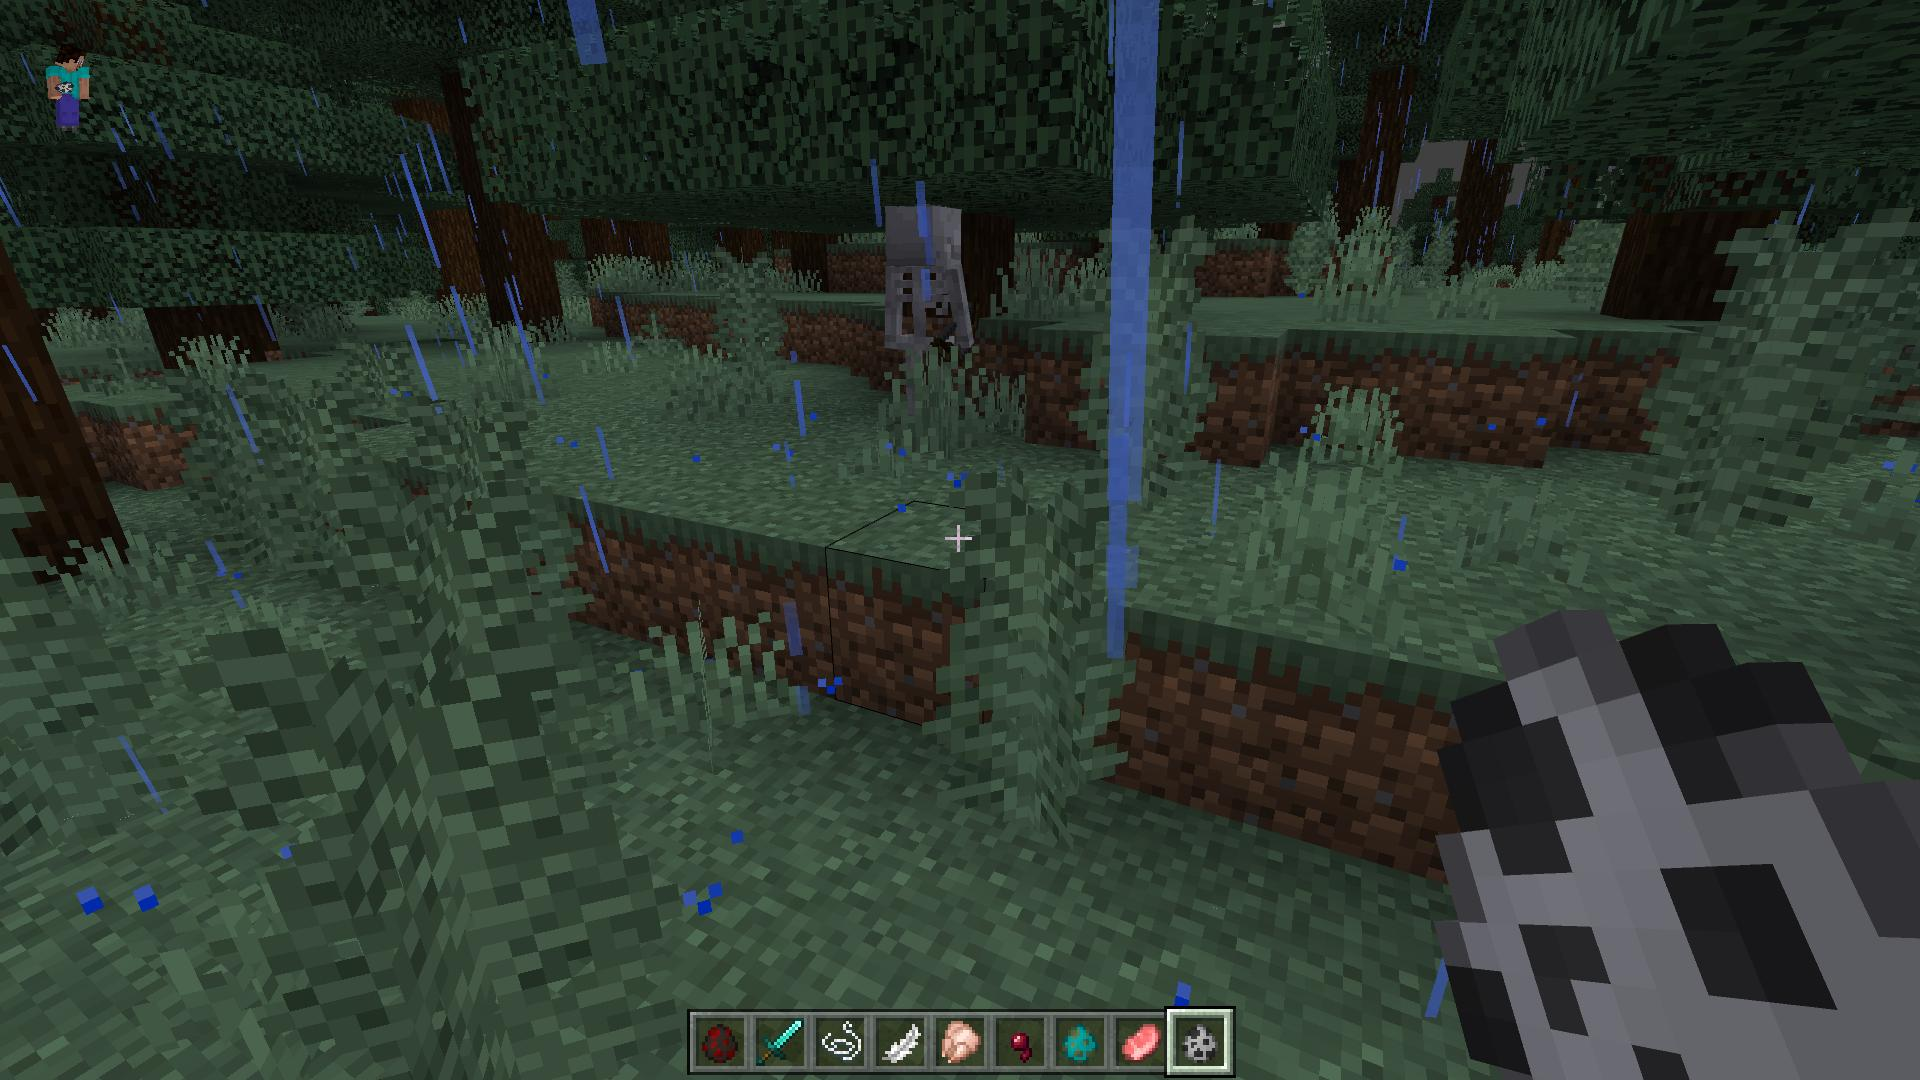skeleton: (877, 194, 977, 404)
